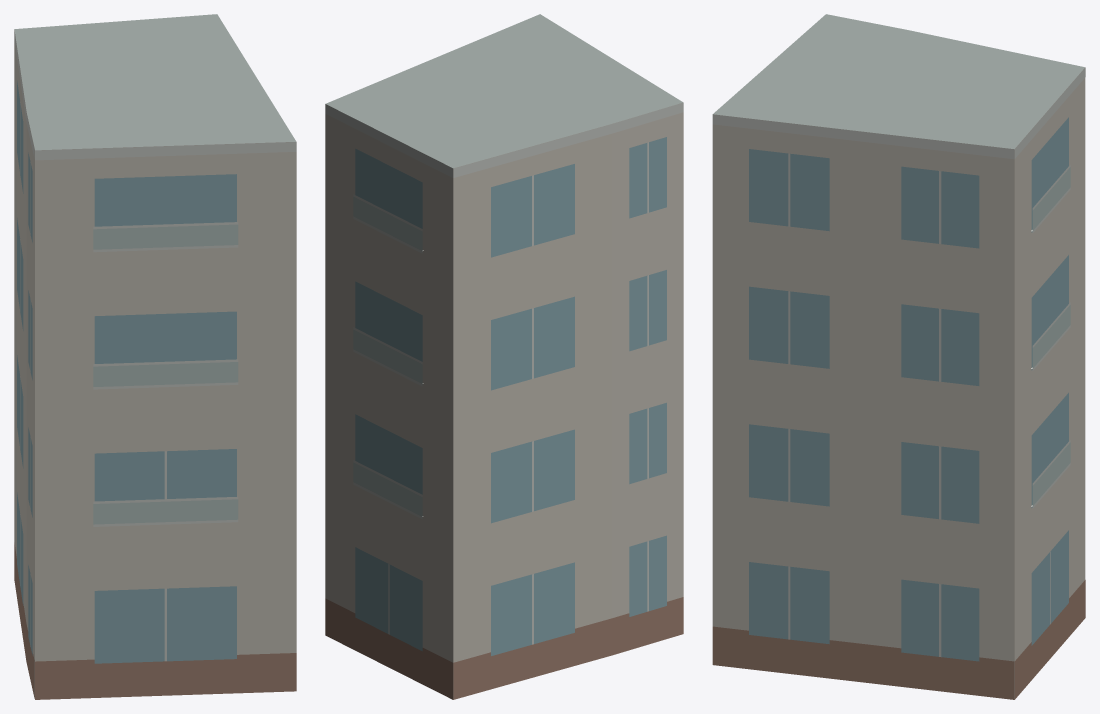
The model's file is survey-upis-32984662.glb.
3 renders of one model, left to right at view 1: azimuth 30°, elevation 25°; view 2: azimuth 150°, elevation 25°; view 3: azimuth 270°, elevation 25°, orthographic. The views are drawn at different scales.
Parts seen in each view (by area): view 1: survey-upis-32984662.tmp; view 2: survey-upis-32984662.tmp; view 3: survey-upis-32984662.tmp.
Part boxes in pixels (bbox=[...]): survey-upis-32984662.tmp: bbox=[14, 14, 296, 699]; survey-upis-32984662.tmp: bbox=[325, 14, 683, 699]; survey-upis-32984662.tmp: bbox=[712, 14, 1085, 699].
Size of the model in its own units: 6.98 by 13.25 by 8.14.
